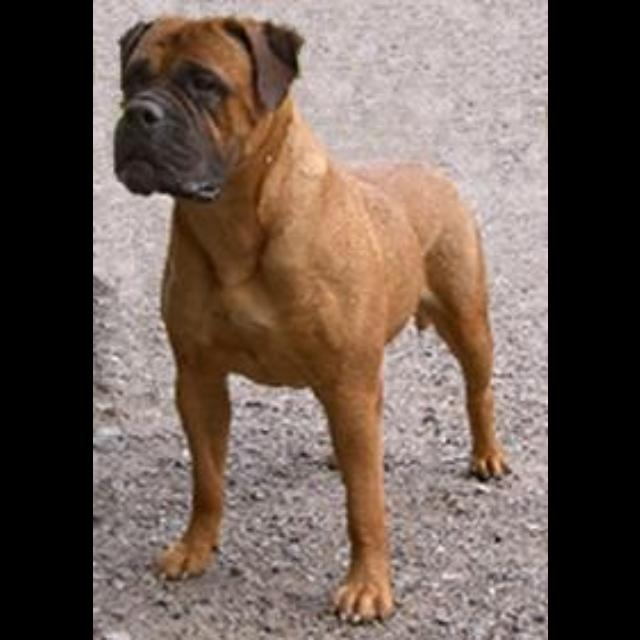bullmastiff: (112, 13, 512, 625)
